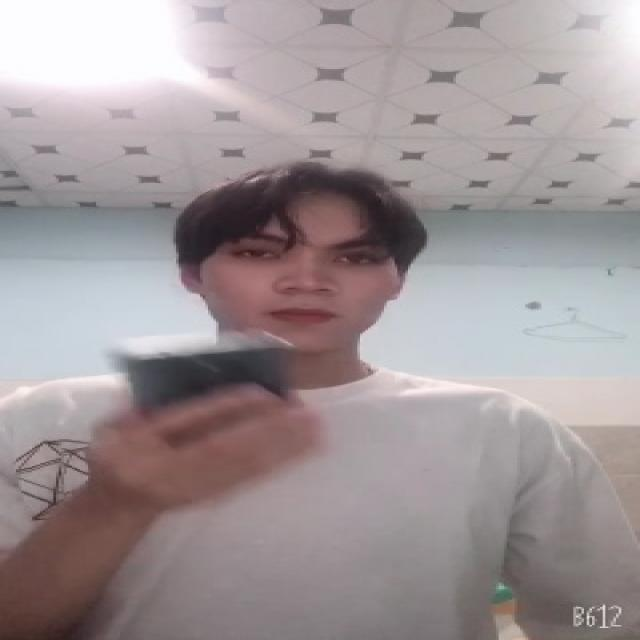Phone: (114, 334, 302, 418)
